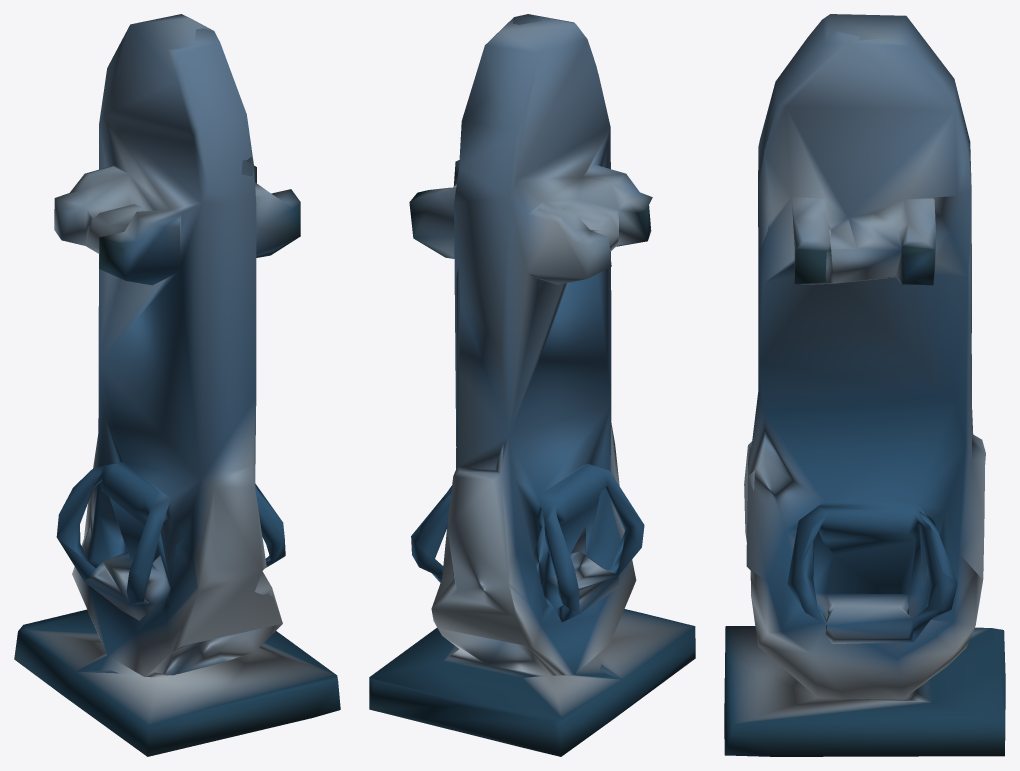
Rendered from gen3d-snowboard-lod1.glb.
3 views of the same model, side by side, from view 1: azimuth 30°, elevation 25°; view 2: azimuth 150°, elevation 25°; view 3: azimuth 270°, elevation 25° (orthographic). The views are drawn at different scales.
Visible parts, largest first — view 1: part_0; view 2: part_0; view 3: part_0.
Part boxes in pixels (<box>): part_0: <box>14,14,340,756</box>; part_0: <box>369,14,695,756</box>; part_0: <box>724,14,1005,756</box>.
Bounding box in the file's own units: 0.3064 × 0.9964 × 0.3675.
